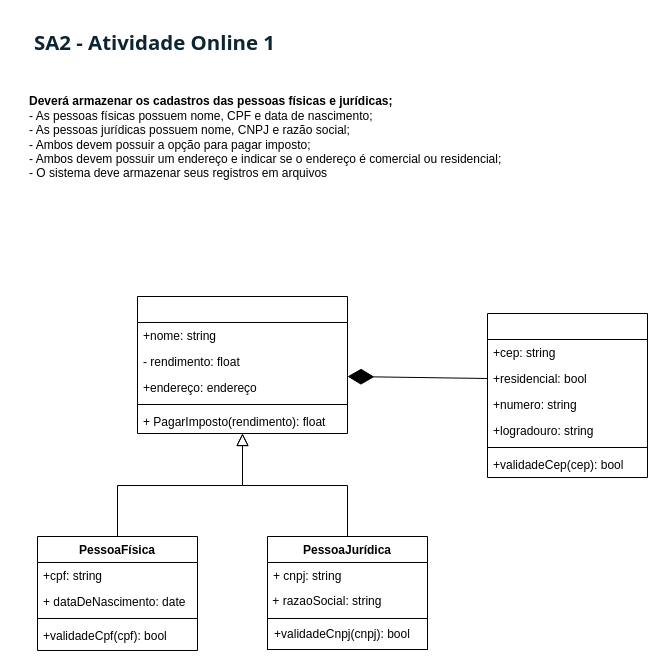
This 665x668 diagram has some shape labels left out. The box of each missing label's shape, as (x1, y1, x2, y2) in pixels:
Endereço: (486, 312, 648, 478)
Pessoa: (136, 296, 348, 434)
